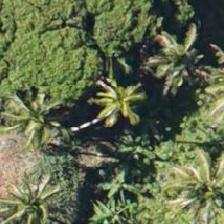coconut_tree: (71, 57, 161, 147), (136, 11, 223, 101), (154, 138, 223, 223), (0, 149, 79, 223)
